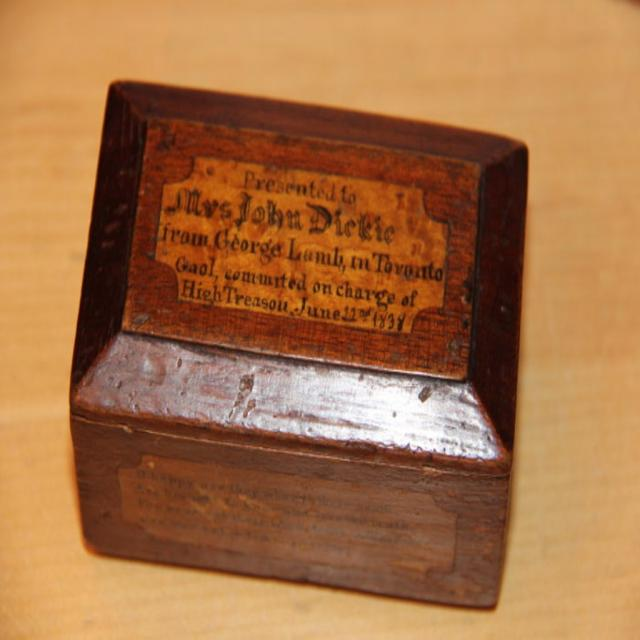Box: (63, 75, 544, 618)
